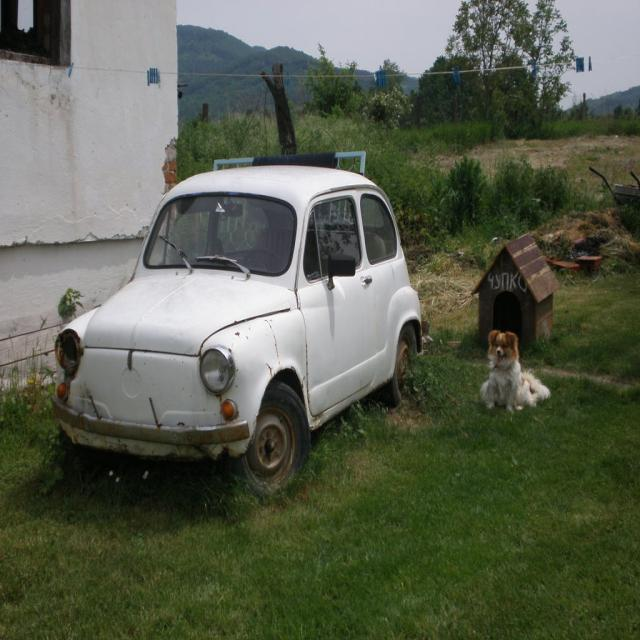Car: (50, 150, 433, 504)
